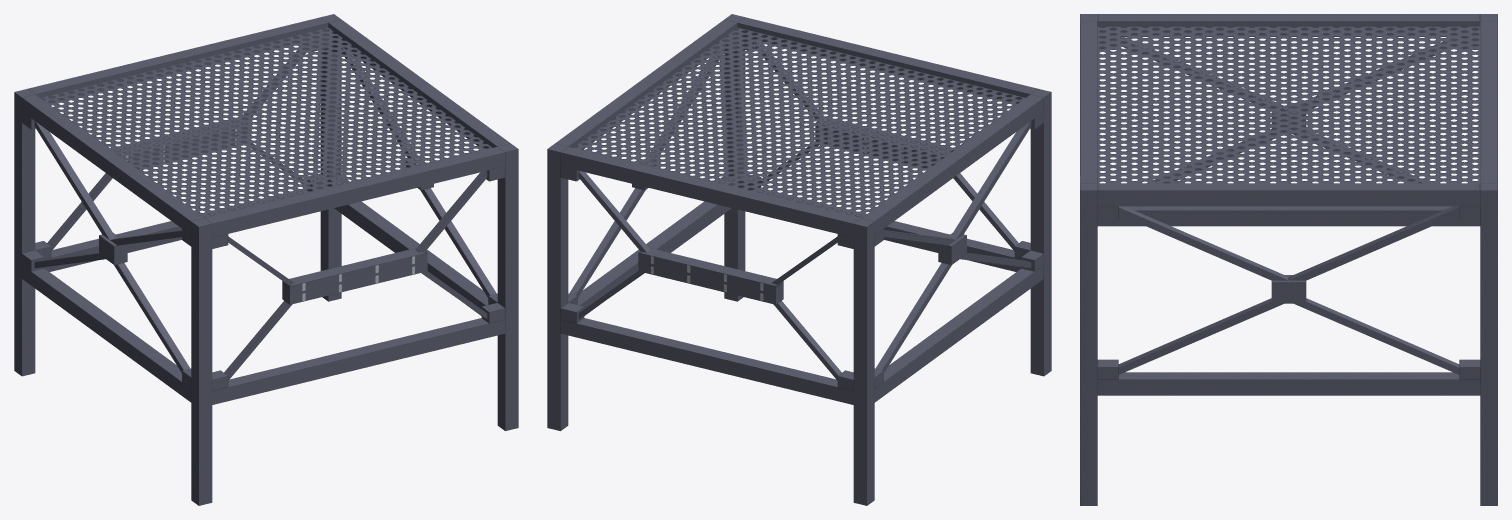
File: Platerform_Metal_03.FBX
3 views of the same model, side by side, from view 1: azimuth 30°, elevation 25°; view 2: azimuth 150°, elevation 25°; view 3: azimuth 270°, elevation 25° (orthographic). The views are drawn at different scales.
Visible parts, largest first — view 1: Platerform_Metal_03; view 2: Platerform_Metal_03; view 3: Platerform_Metal_03.
Boxes of the visible parts, x1=… form: Platerform_Metal_03: x1=14, y1=14, x2=518, y2=505; Platerform_Metal_03: x1=547, y1=14, x2=1051, y2=505; Platerform_Metal_03: x1=1080, y1=14, x2=1497, y2=505.
Bounding box in the file's own units: 6 × 5 × 6.
3 materials, 3 textured.
